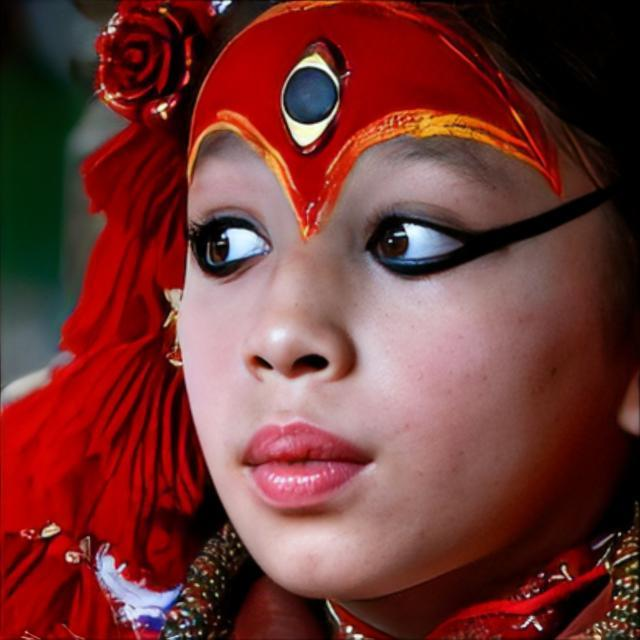surprise: (176, 120, 614, 602)
